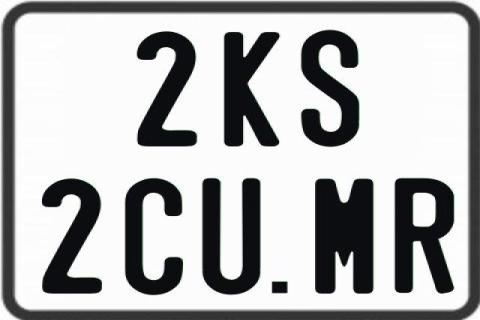0: (40, 176, 104, 293), (134, 30, 196, 148)
C: (124, 178, 182, 300)
K: (221, 31, 277, 149)
M: (313, 178, 377, 294)
R: (394, 178, 458, 298)
S: (300, 29, 362, 149)
U: (202, 178, 263, 298)
